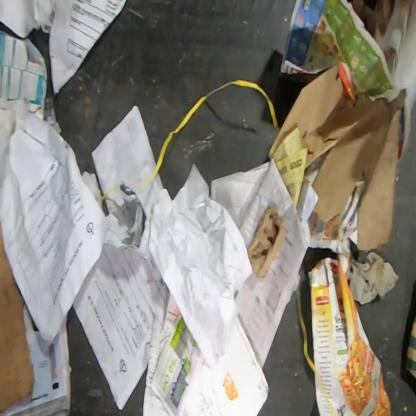cardboard: (267, 64, 407, 252), (307, 253, 393, 415), (0, 221, 35, 414)
